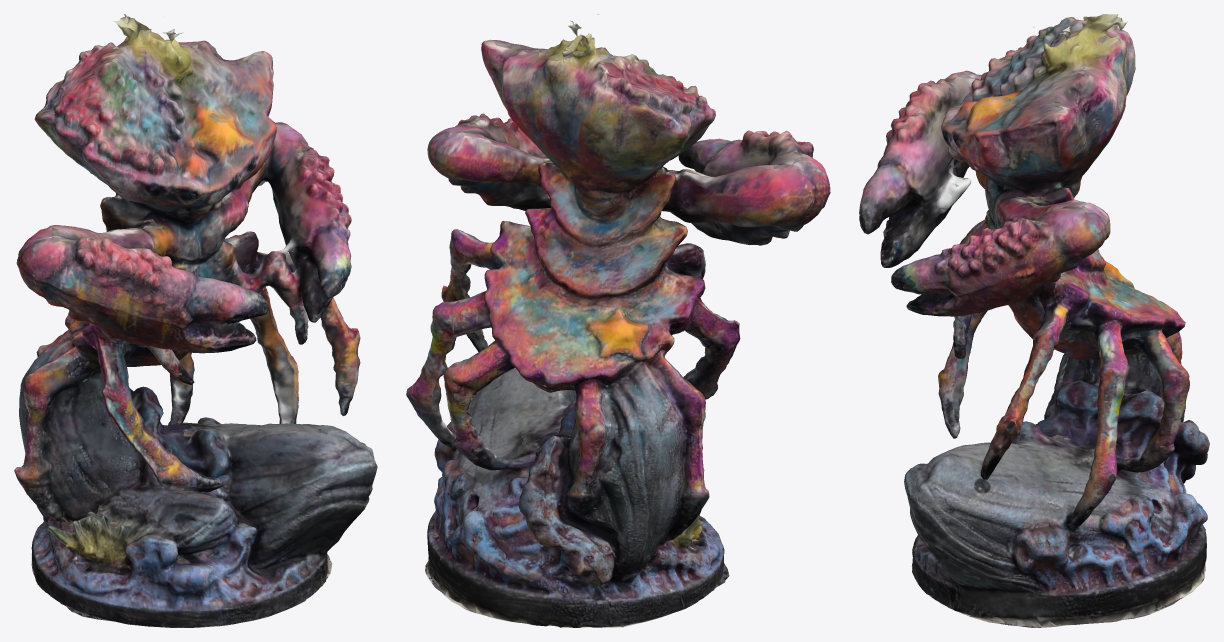
The model's file is Coral.glb.
The picture shows the model from 3 angles, left to right: view 1: azimuth 30°, elevation 25°; view 2: azimuth 150°, elevation 25°; view 3: azimuth 270°, elevation 25°; orthographic projection. The views are drawn at different scales.
Visible parts, largest first — view 1: crashing_tide; view 2: crashing_tide; view 3: crashing_tide.
Boxes of the visible parts, x1,y1,x2,y2 form: crashing_tide: (14,14,377,627); crashing_tide: (406,14,830,627); crashing_tide: (859,14,1209,627).
Size of the model in its own units: 6.8 by 9.74 by 5.81.
1 material, 1 textured.
